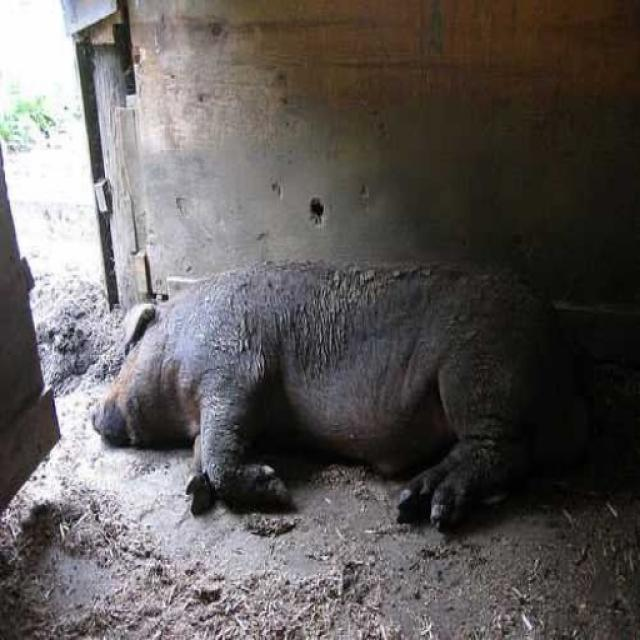pig: (85, 252, 577, 522)
